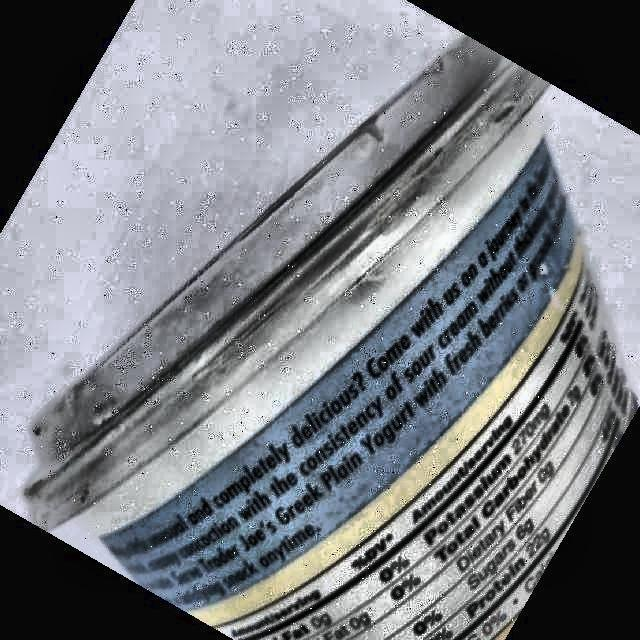plastic: (29, 39, 636, 640)
